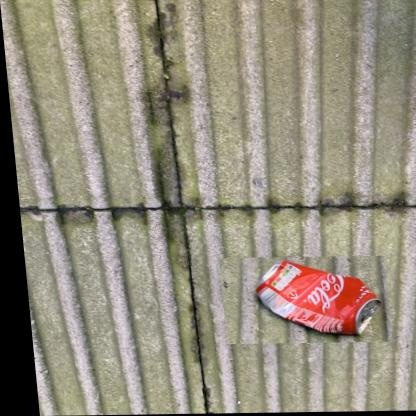trash: (256, 260, 380, 334)
